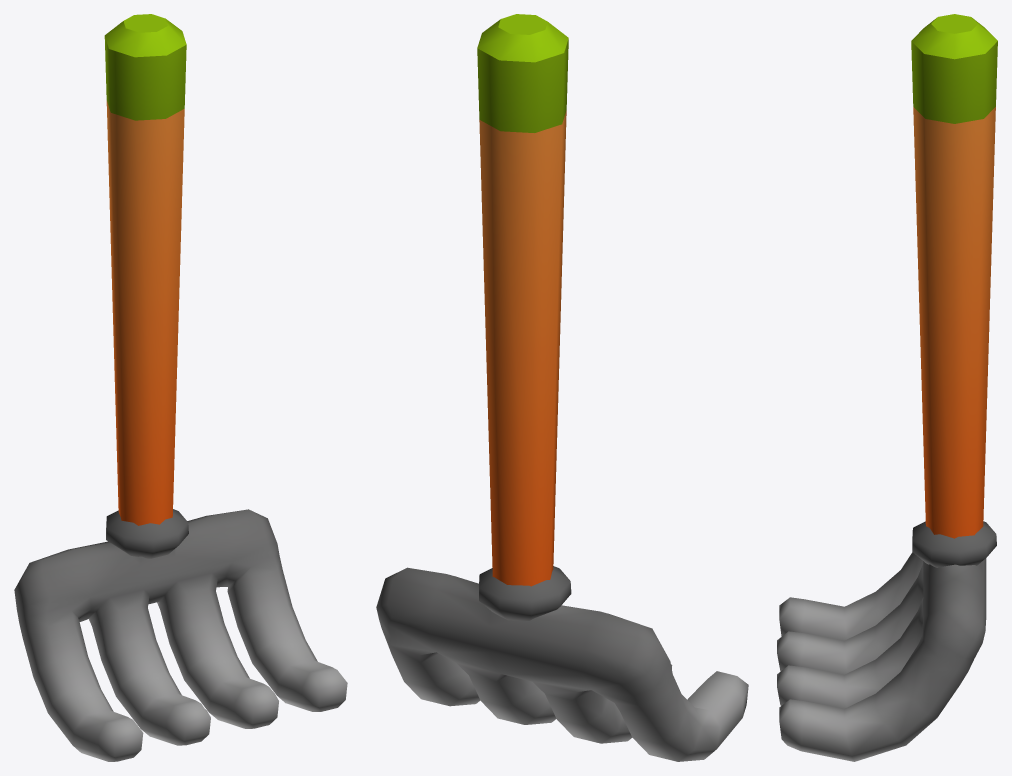
The model's file is Farm_Tool_Fork_Hoe_01.fbx.
3 views of the same model, side by side, from view 1: azimuth 30°, elevation 25°; view 2: azimuth 150°, elevation 25°; view 3: azimuth 270°, elevation 25° (orthographic). The views are drawn at different scales.
Parts seen in each view (by area): view 1: Farm_Tool_Fork_Hoe_01; view 2: Farm_Tool_Fork_Hoe_01; view 3: Farm_Tool_Fork_Hoe_01.
Part boxes in pixels (x1,y1,x2,y2): Farm_Tool_Fork_Hoe_01: [14, 14, 347, 761]; Farm_Tool_Fork_Hoe_01: [376, 14, 748, 761]; Farm_Tool_Fork_Hoe_01: [777, 14, 997, 761].
Size of the model in its own units: 42.68 by 108 by 31.7.
